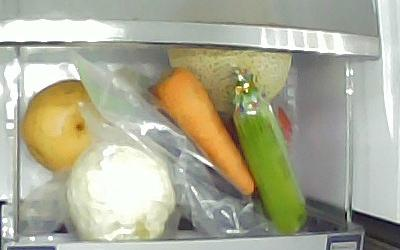cabbage_vinyl: (62, 143, 176, 240)
carrot: (153, 64, 255, 196)
melon: (164, 44, 292, 113)
pear: (20, 79, 98, 174)
zucchini: (231, 97, 308, 234)
